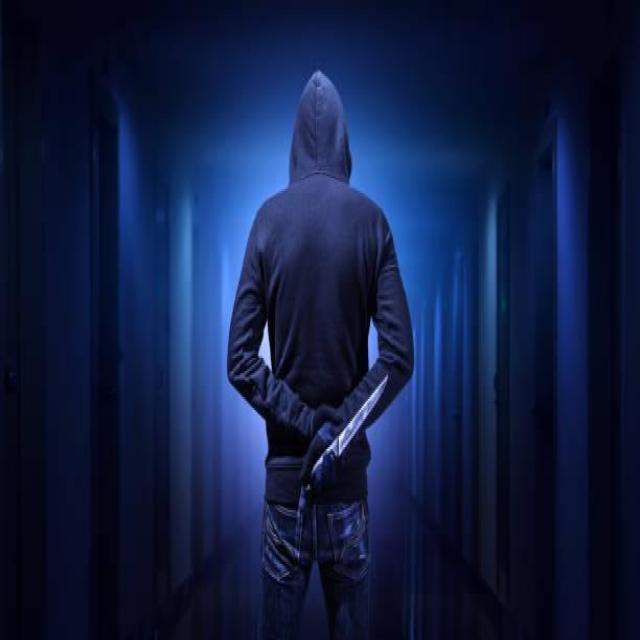faca: (313, 371, 392, 503)
